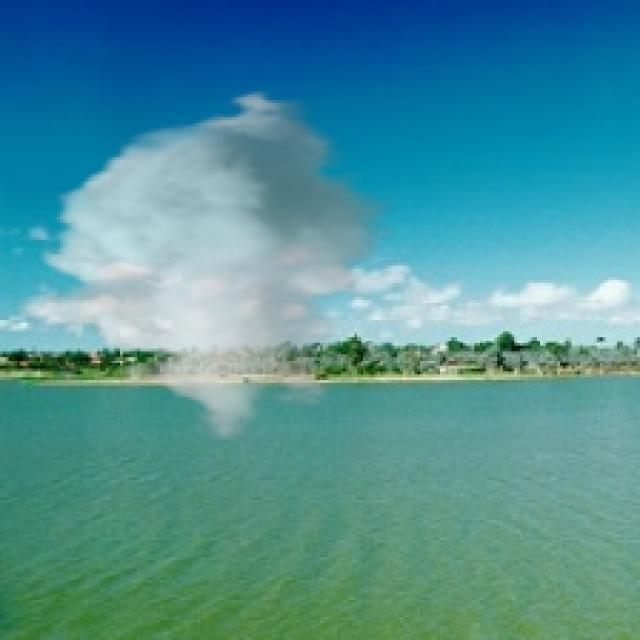Smoke: (11, 88, 400, 443)
